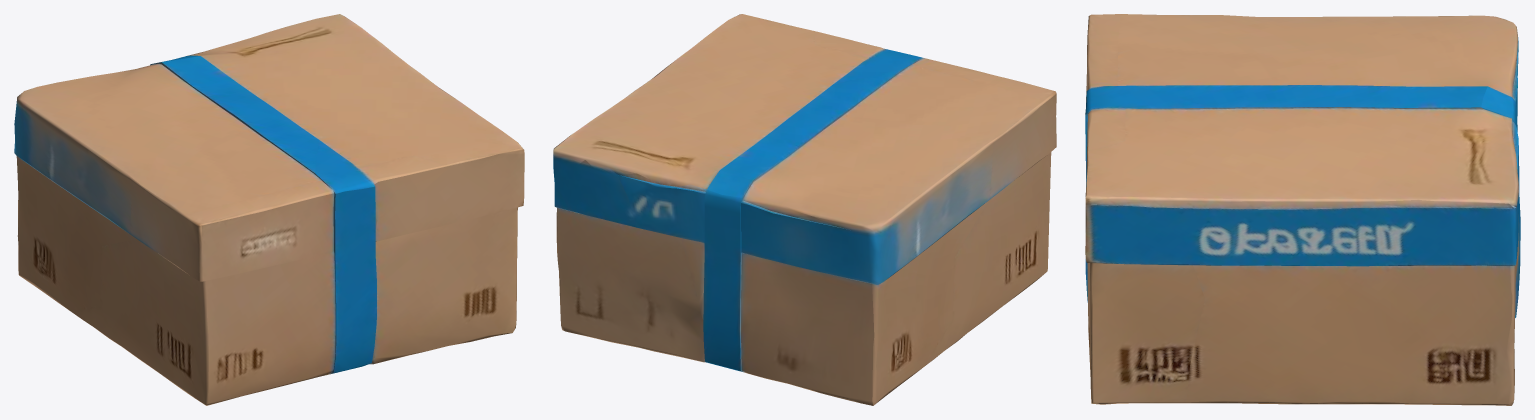
Rendered from cardboardParcel.glb.
3 renders of one model, left to right at view 1: azimuth 30°, elevation 25°; view 2: azimuth 150°, elevation 25°; view 3: azimuth 270°, elevation 25°, orthographic. The views are drawn at different scales.
Visible parts, largest first — view 1: model; view 2: model; view 3: model.
Boxes of the visible parts, <box> form: model: <box>14,14,524,405</box>; model: <box>553,14,1056,405</box>; model: <box>1085,14,1520,405</box>.
Bounding box in the file's own units: 1.9 × 1.04 × 1.87.
1 material, 1 textured.
